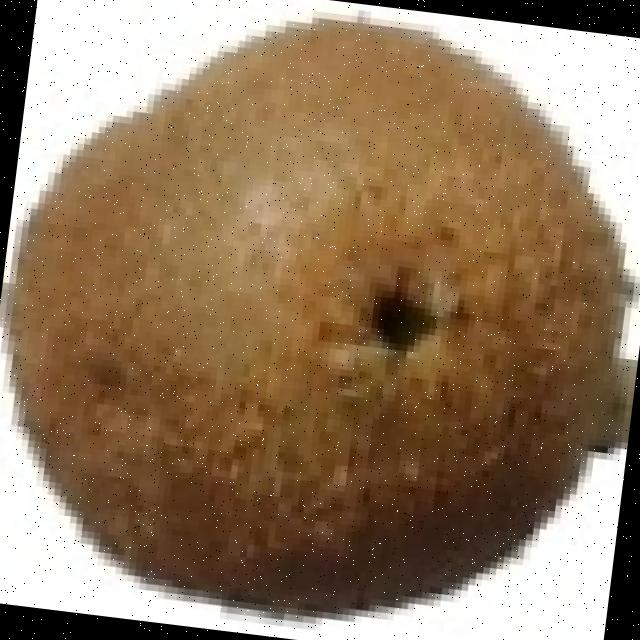kiwi: (0, 10, 626, 603)
